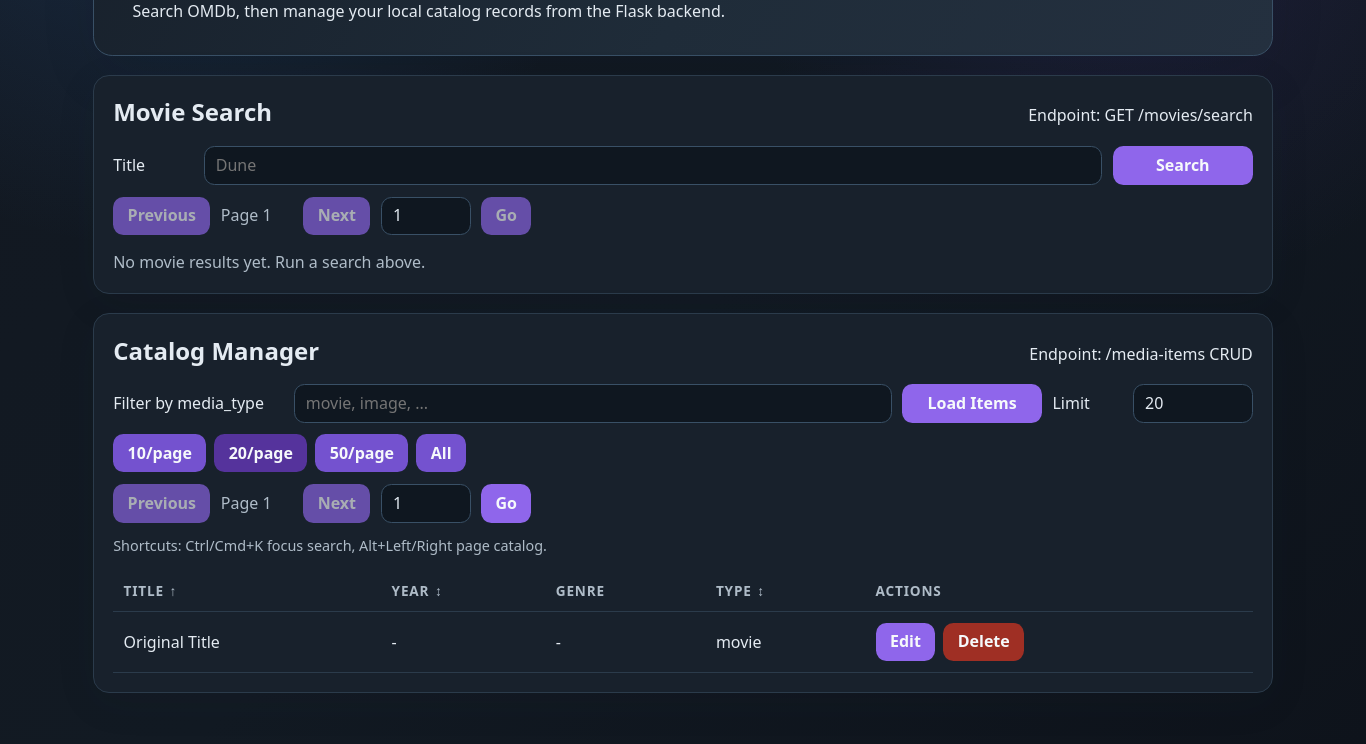
App › deletes currently edited item and exits edit mode
(page scrolled)
Expected: the text "Original Title" is shown, [113,612,381,672]
What coordinates should you click on to do the following:
click the button "Edit"
I would click on:
 (905, 642)
Its box is [876,623,935,661].
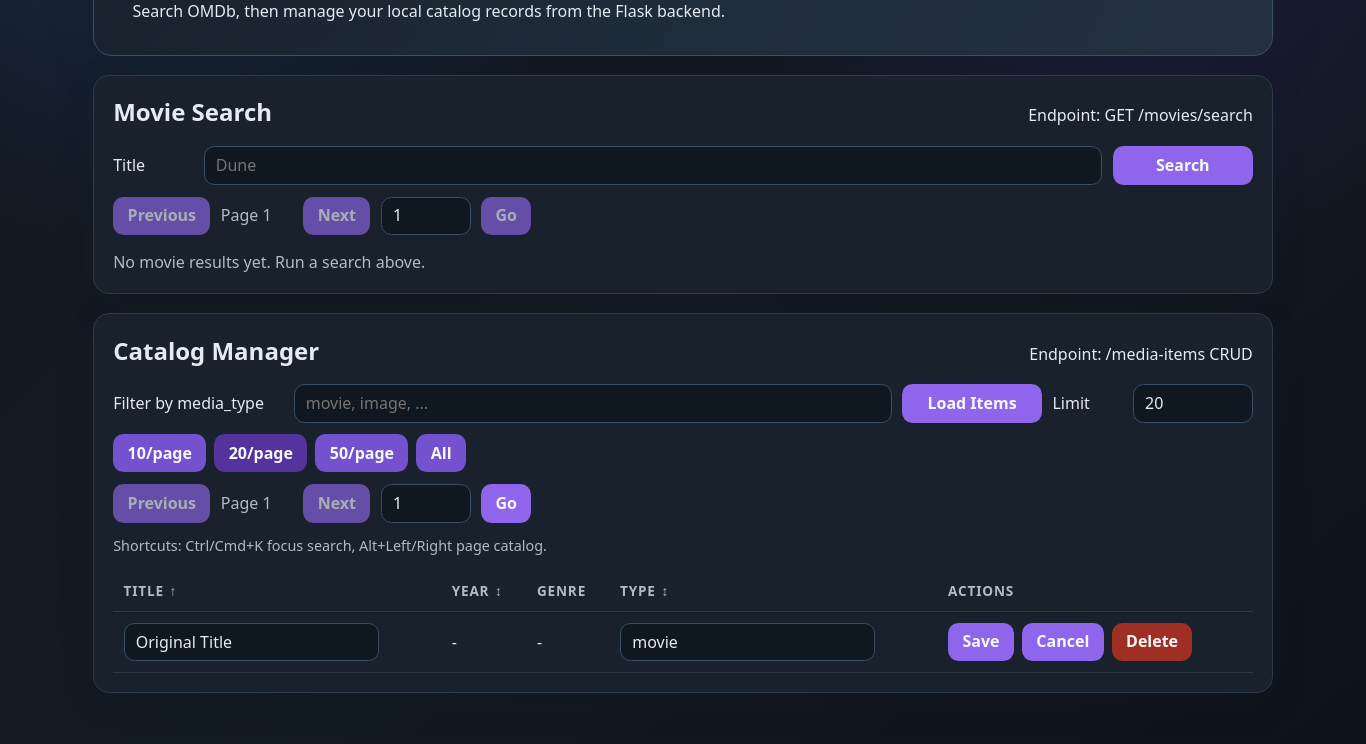
What coordinates should you click on to do the following:
click the button "Delete"
I would click on:
 (1152, 642)
Its box is [1112,623,1192,661].
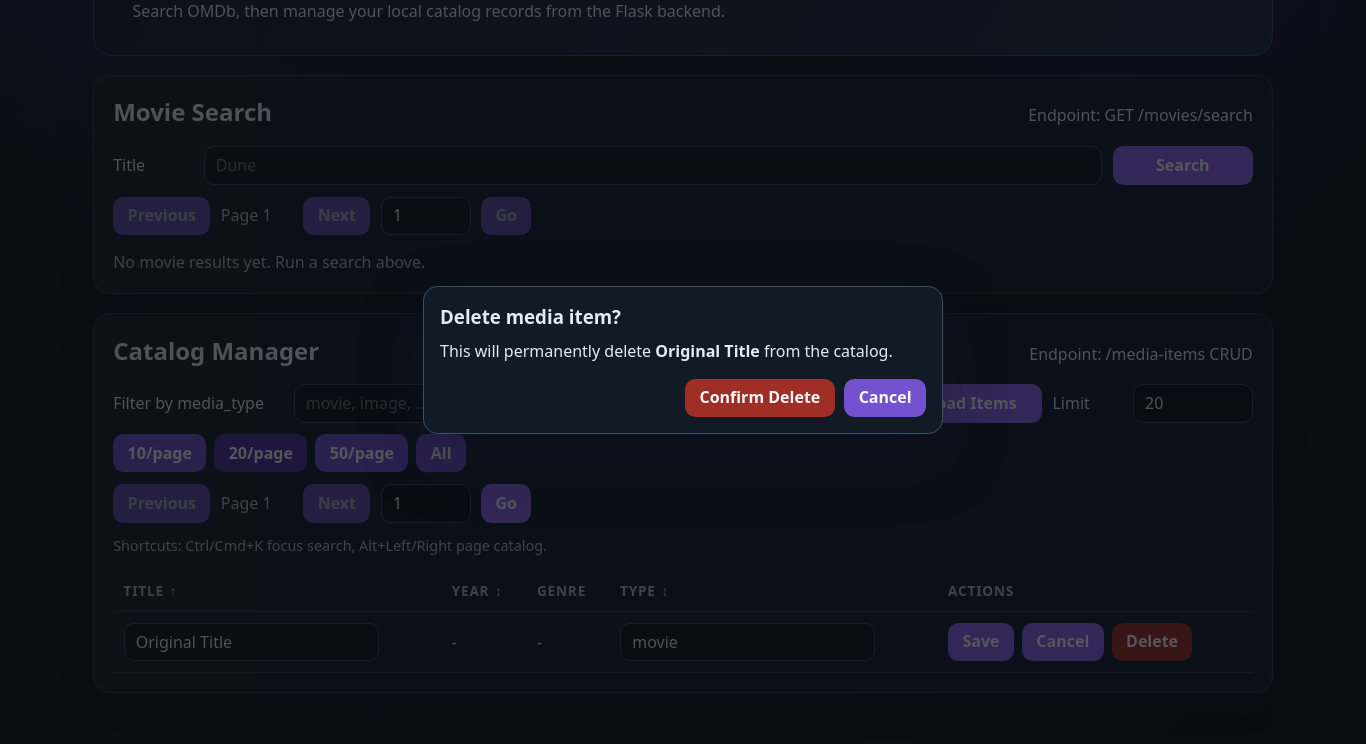
What coordinates should you click on to do the following:
click the button "Confirm Delete"
I would click on:
 (760, 398)
Its box is [685,379,835,417].
(page scrolled)
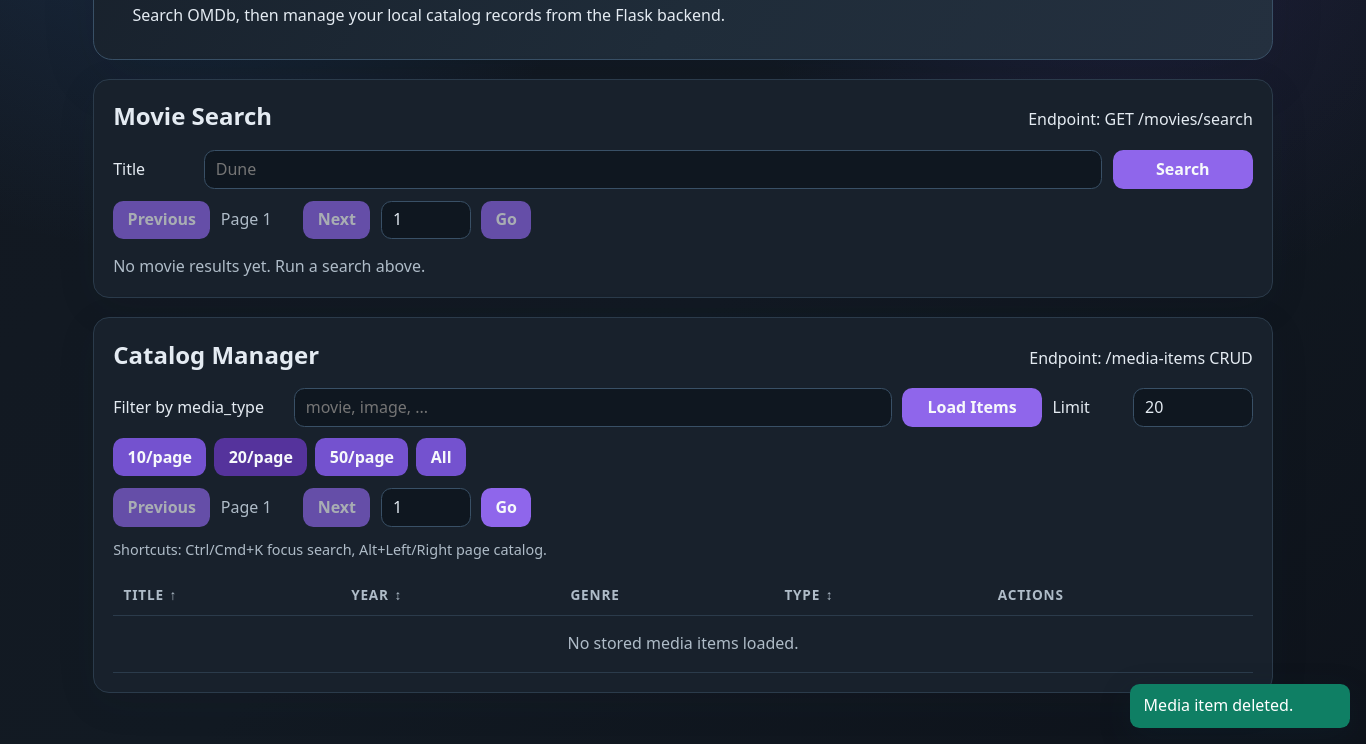
Expected: the button "Save" is gone
